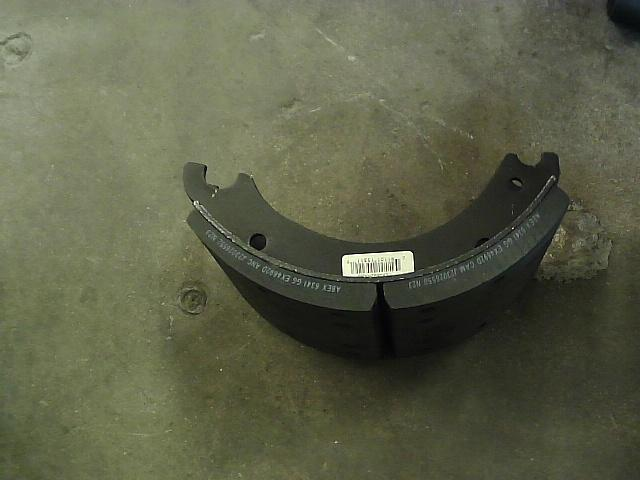brake-shoes: (180, 148, 572, 364)
